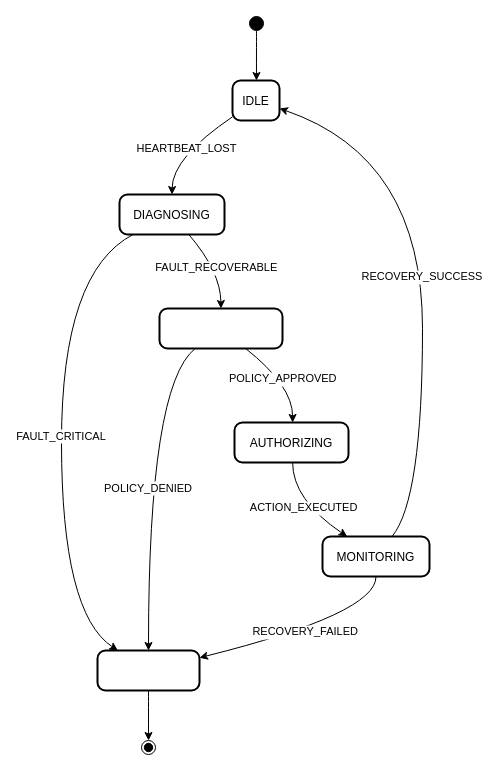
Image size: 500x771. Some labels were removed from this diagram. Here are the shapes that lost their labels. From the top down, the centre of each, then its label:
At pixel 220 328: "POLICY_CHECK".
At pixel 148 670: "ESCALATION".
